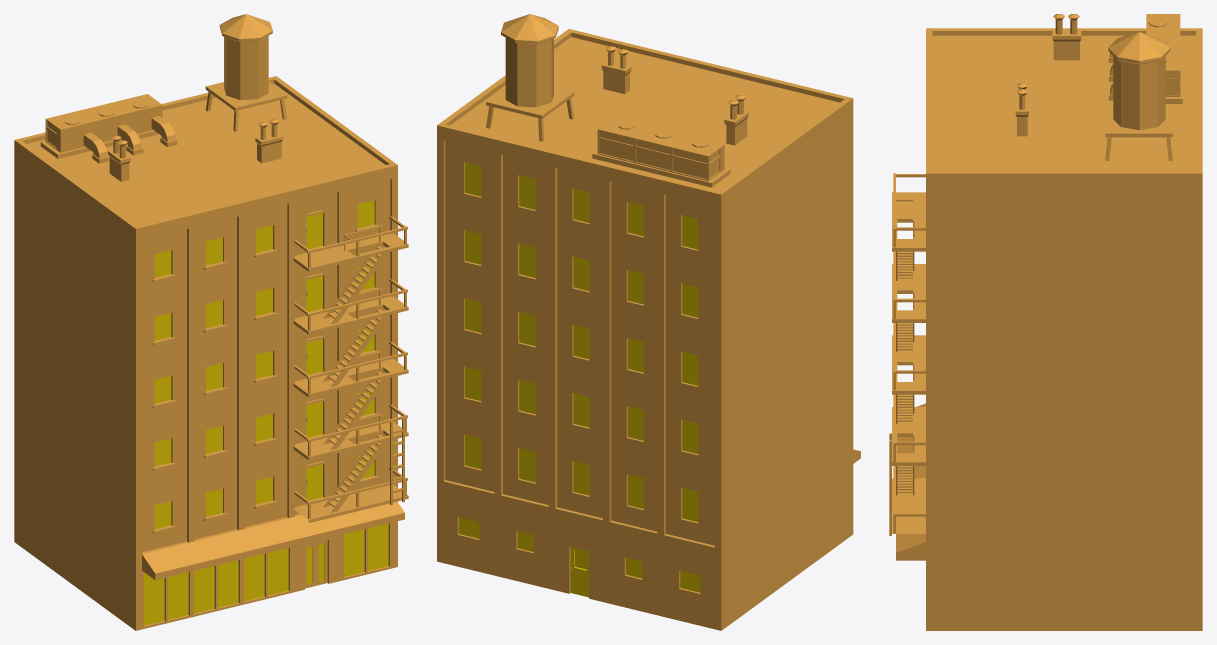
Rendered from Building_25.fbx.
3 views of the same model, side by side, from view 1: azimuth 30°, elevation 25°; view 2: azimuth 150°, elevation 25°; view 3: azimuth 270°, elevation 25° (orthographic). The views are drawn at different scales.
Parts seen in each view (by area): view 1: building-block-5floor-front, building-block-5floor-front.001; view 2: building-block-5floor-front, building-block-5floor-front.001; view 3: building-block-5floor-front, building-block-5floor-front.001.
Boxes of the visible parts, <box> form: building-block-5floor-front: <box>14,14,408,429</box>; building-block-5floor-front.001: <box>14,341,408,630</box>; building-block-5floor-front: <box>437,14,853,412</box>; building-block-5floor-front.001: <box>437,316,860,630</box>; building-block-5floor-front: <box>892,14,1202,402</box>; building-block-5floor-front.001: <box>889,394,1202,630</box>.
Size of the model in its own units: 6.54 by 11.88 by 5.95.
